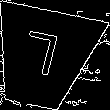L_S: (20, 30, 66, 86)
